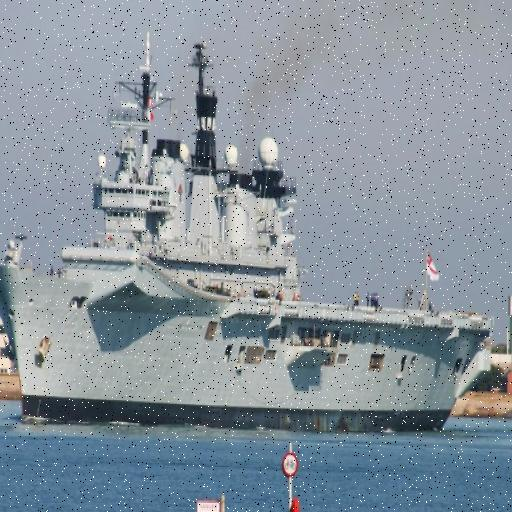Portanaves: (1, 22, 500, 430)
